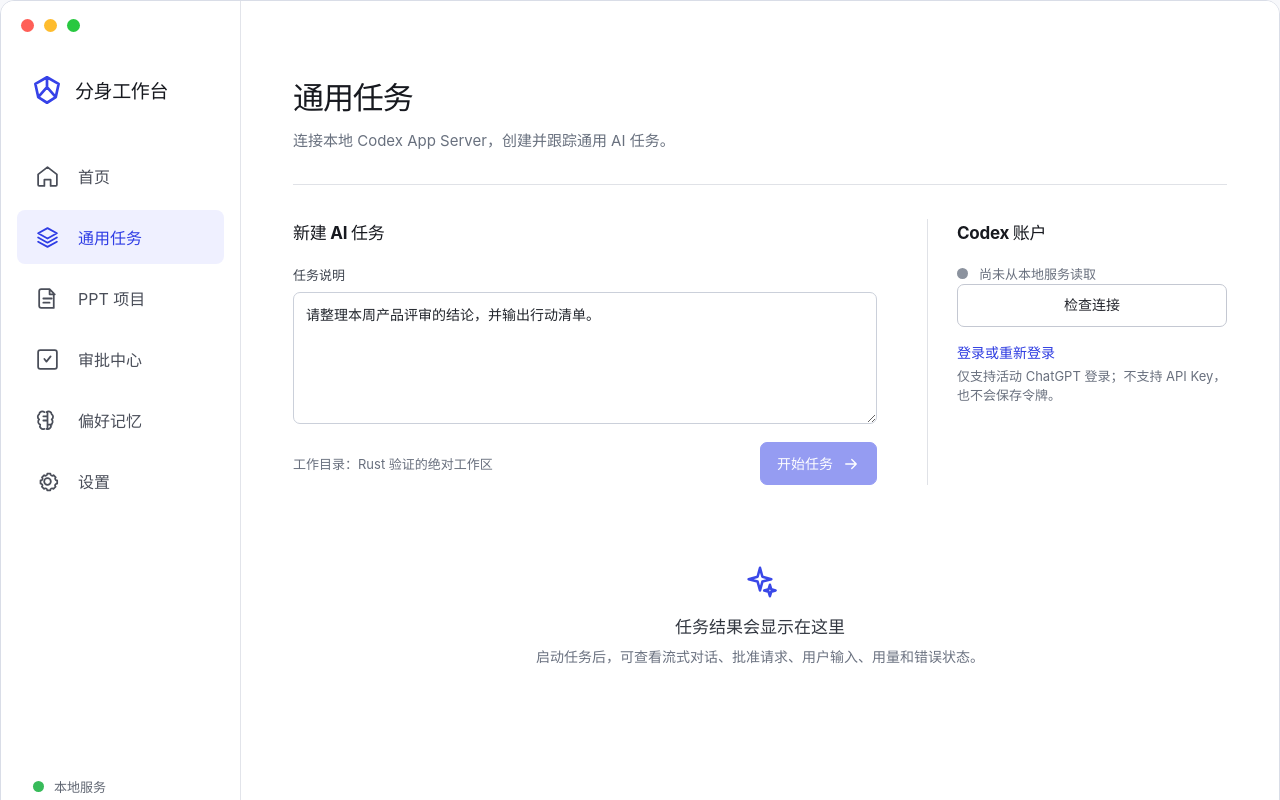
shared Codex connection UI › disables tasks on disconnect and refreshes every page after checking again
The image size is (1280, 800).
Expected: the text "person@example.com · pro" is shown, [957,266,1096,282]
Expected: the button "开始任务" is disabled, [760,442,877,485]
Click the link "首页": coordinates (94, 177) [35,164,110,188]
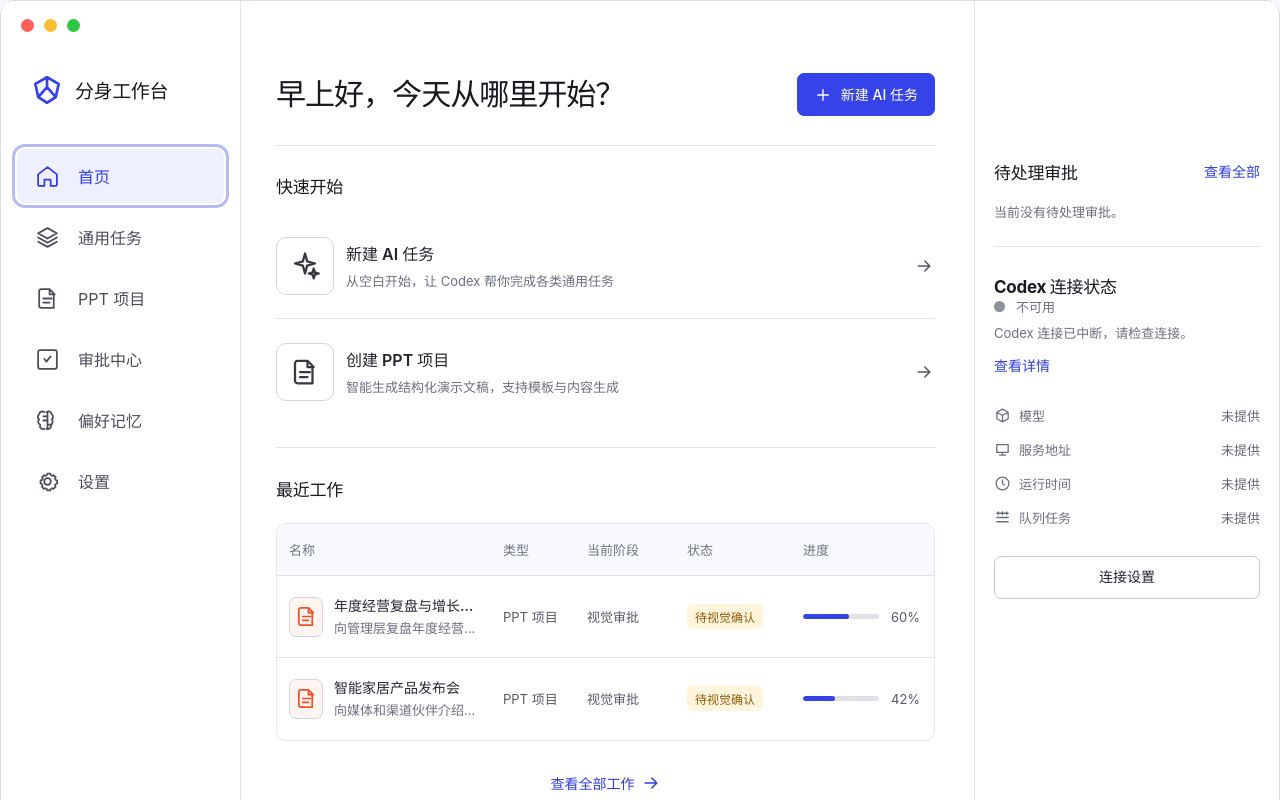
Expected: the text "不可用" is shown, [994,299,1055,315]
Click the link "通用任务": coordinates (88, 237) [35,224,142,250]
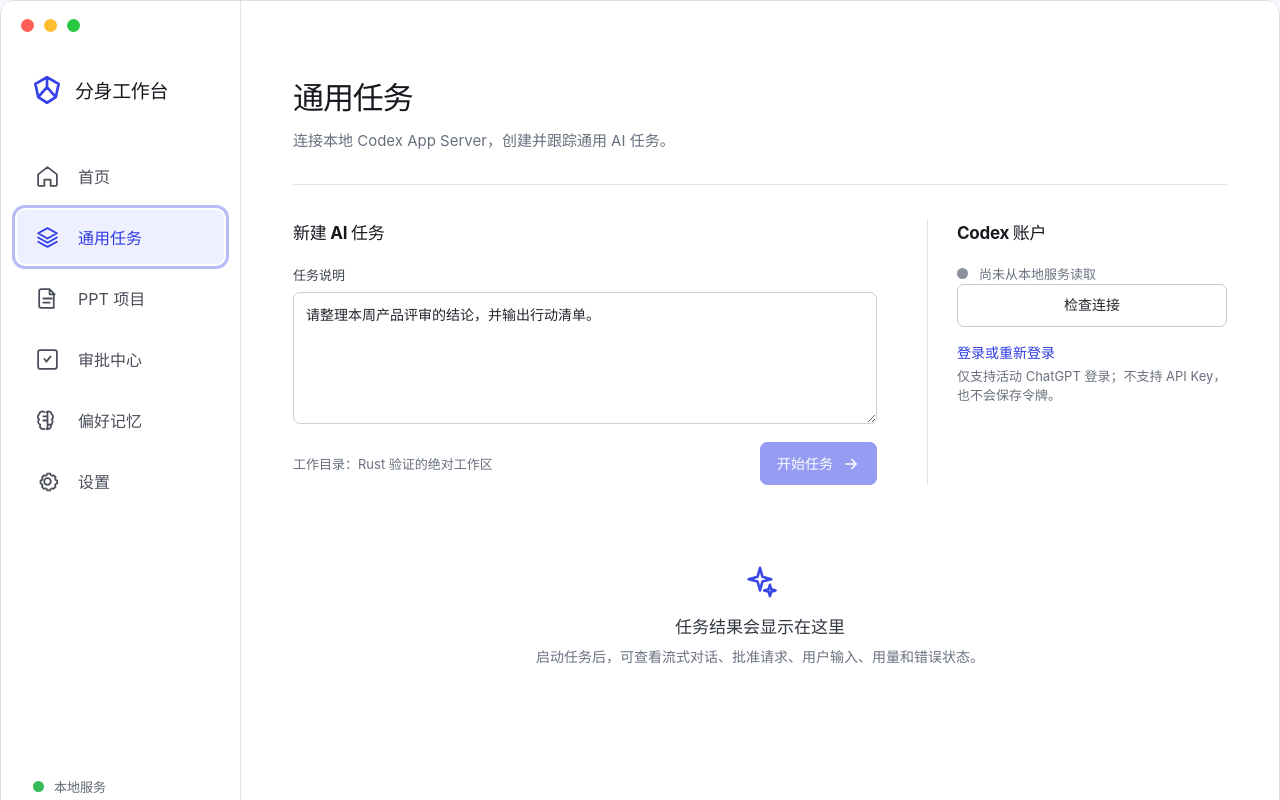
Click the button "检查连接": coordinates (1092, 305) [957,284,1227,327]
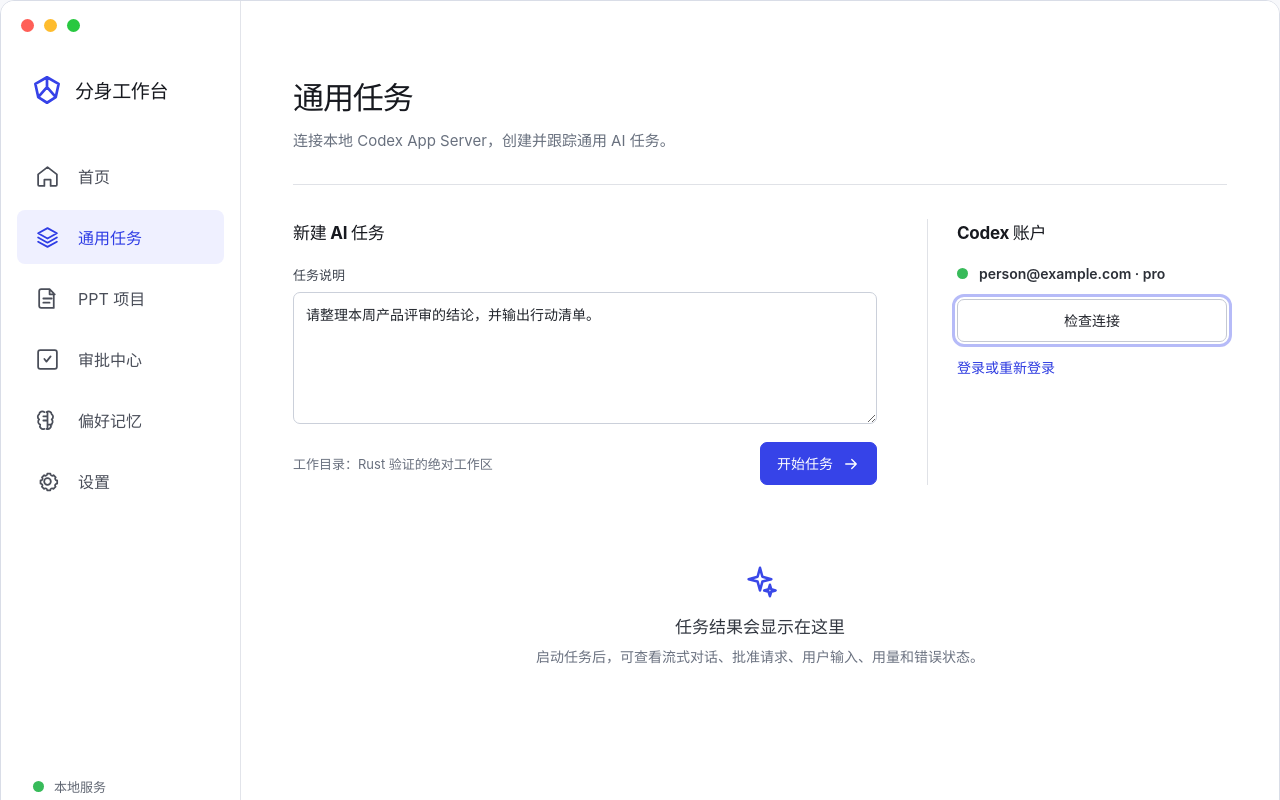
Expected: the button "开始任务" is enabled, [760,442,877,485]
Click the link "首页": coordinates (94, 177) [35,164,110,188]
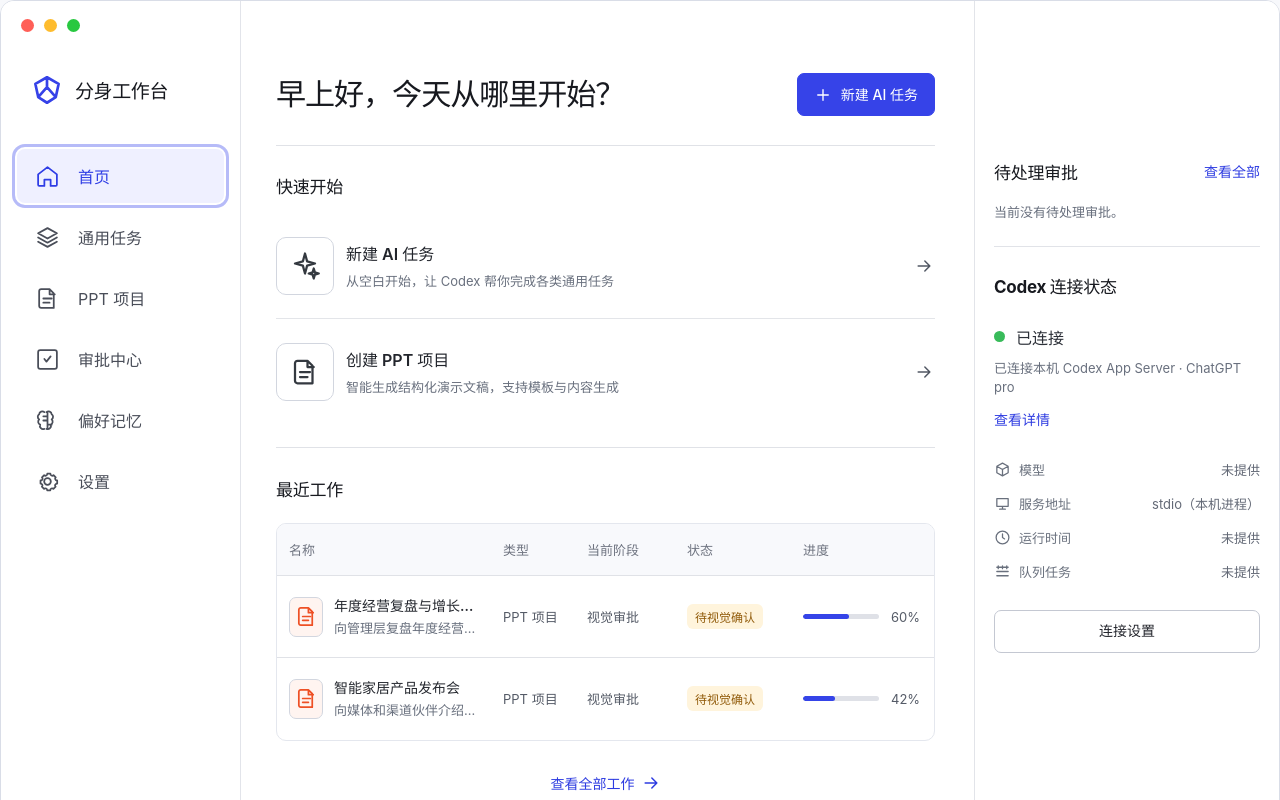
Expected: the text "Codex 连接已中断，请检查连接。" is not shown
Expected: the text "已连接" is shown, [994,328,1064,348]
